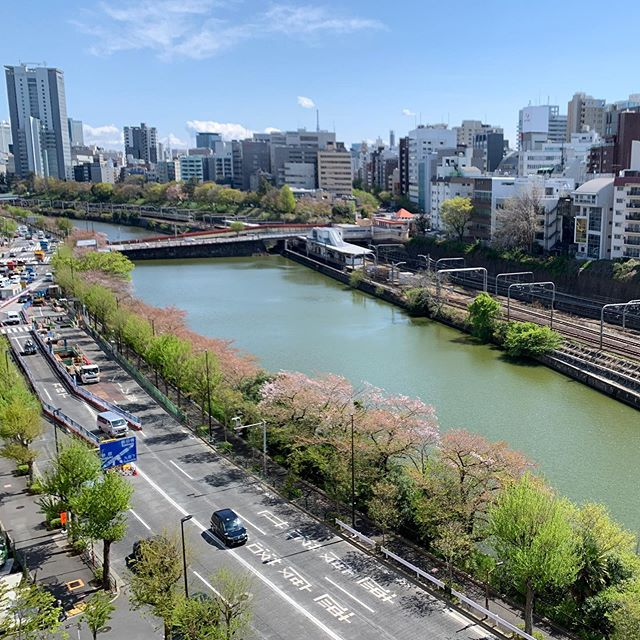building: (2, 65, 93, 190), (428, 166, 567, 243), (392, 116, 460, 219), (565, 172, 640, 261), (564, 87, 626, 170), (272, 130, 329, 204), (514, 100, 567, 175), (315, 137, 368, 208), (121, 118, 171, 185), (450, 115, 507, 173), (224, 131, 276, 191), (193, 129, 238, 181)
car: (207, 506, 251, 549), (91, 403, 135, 446)
river: (78, 222, 640, 572)
sky: (80, 1, 640, 117)
street: (1, 310, 471, 640)
